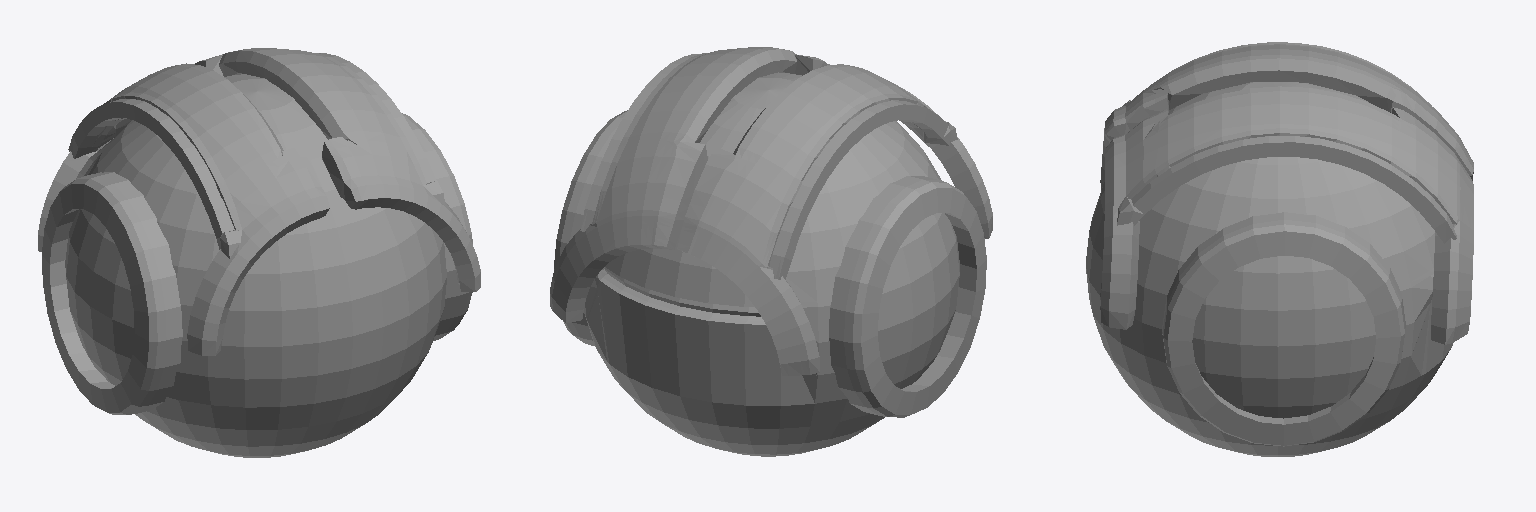
3 renders of one model, left to right at view 1: azimuth 30°, elevation 25°; view 2: azimuth 150°, elevation 25°; view 3: azimuth 270°, elevation 25°, orthographic.
Parts seen in each view (by area): view 1: Sphere_Sphere.001, DrawCall_0176.001_Mesh.002; view 2: DrawCall_0176.001_Mesh.002, Sphere_Sphere.001, Sphere.001_Sphere.002; view 3: DrawCall_0176.001_Mesh.002, Sphere_Sphere.001.
Part boxes in pixels (x1,y1,x2,y2): Sphere_Sphere.001: (65,74,446,457); DrawCall_0176.001_Mesh.002: (38,48,480,414); DrawCall_0176.001_Mesh.002: (550,47,992,417); Sphere_Sphere.001: (584,72,959,456); Sphere.001_Sphere.002: (604,267,761,317); DrawCall_0176.001_Mesh.002: (1100,42,1473,446); Sphere_Sphere.001: (1086,82,1452,456).
Bounding box in the file's own units: 7.9 × 8.32 × 7.99.